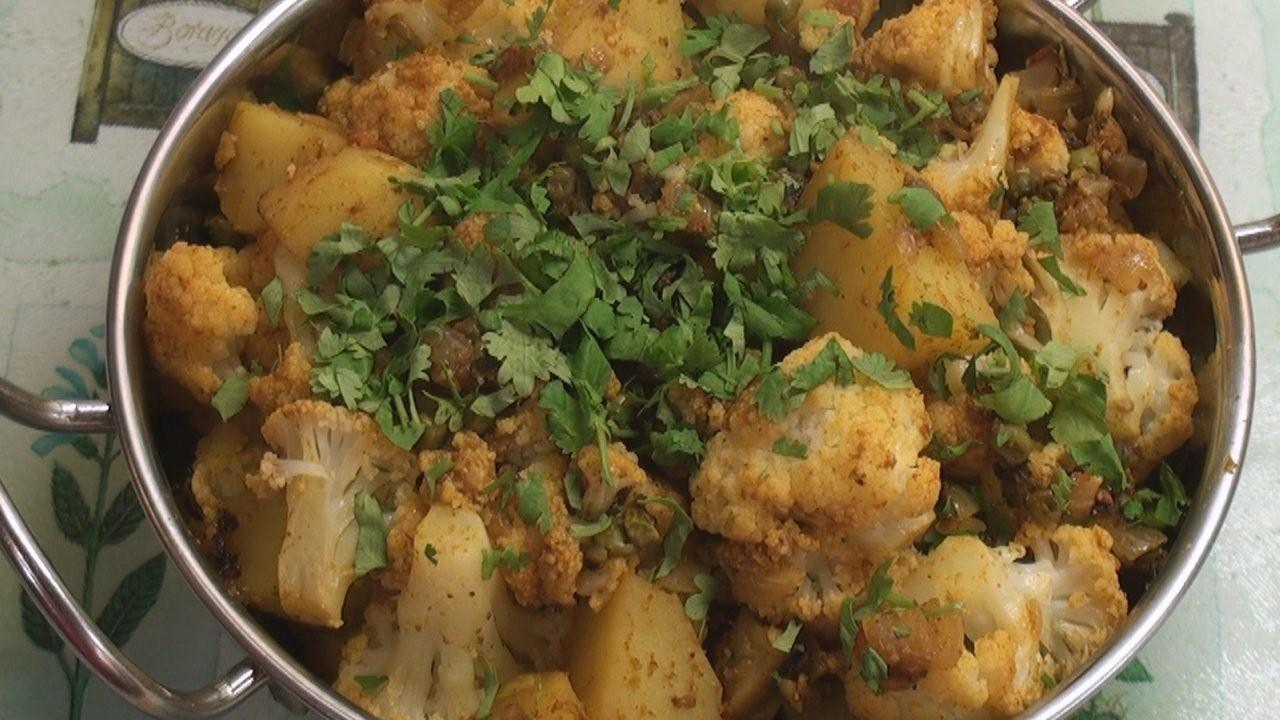AlooGobi: (143, 0, 1198, 718)
